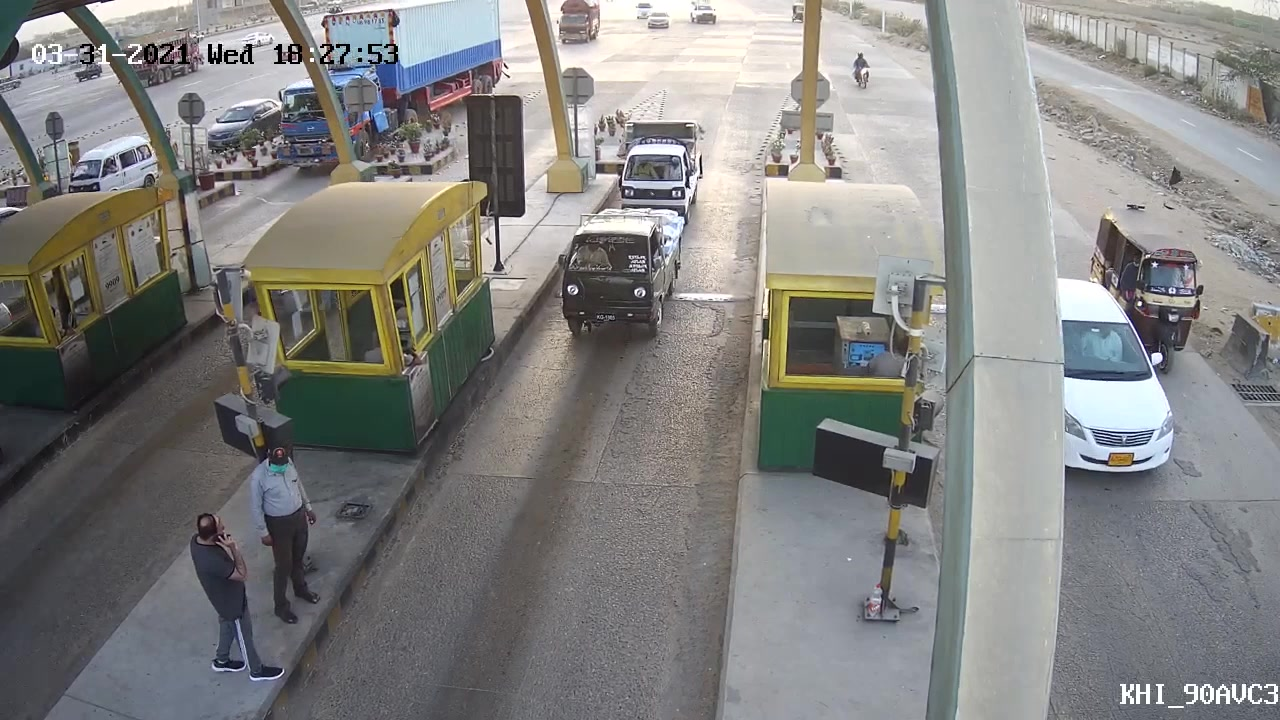F1: (543, 204, 692, 350)
